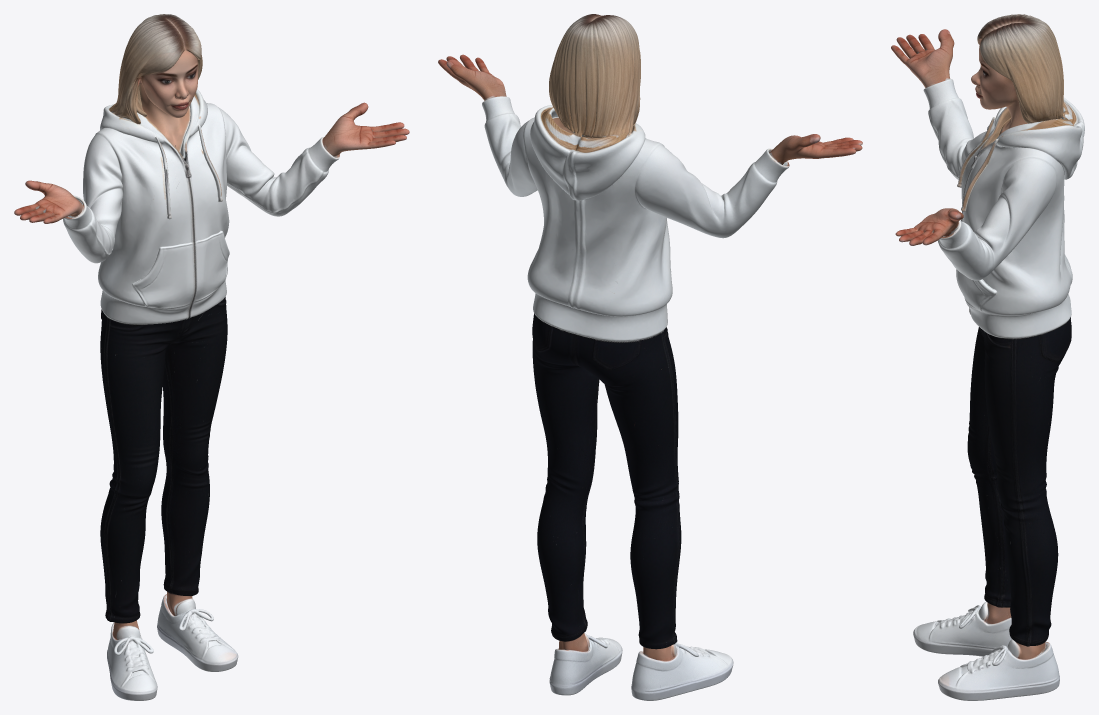
Rendered from player_5_highres.glb.
3 renders of one model, left to right at view 1: azimuth 30°, elevation 25°; view 2: azimuth 150°, elevation 25°; view 3: azimuth 270°, elevation 25°, orthographic. The views are drawn at different scales.
Size of the model in its own units: 1.23 by 1.9 by 0.5054.
1 material, 1 textured.
